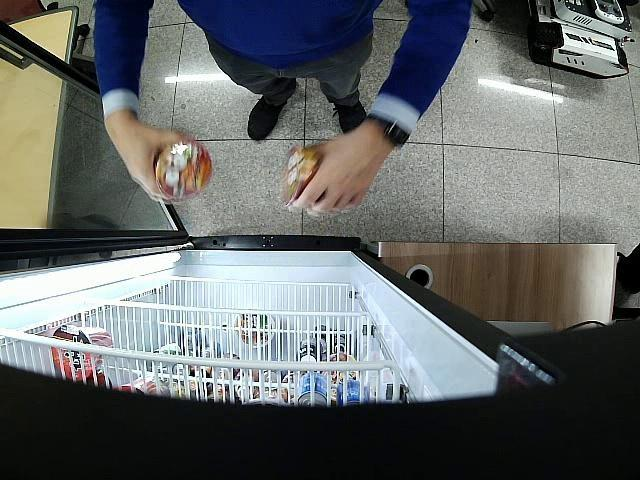06_nuguri_S: (156, 140, 212, 200), (284, 145, 325, 207)
